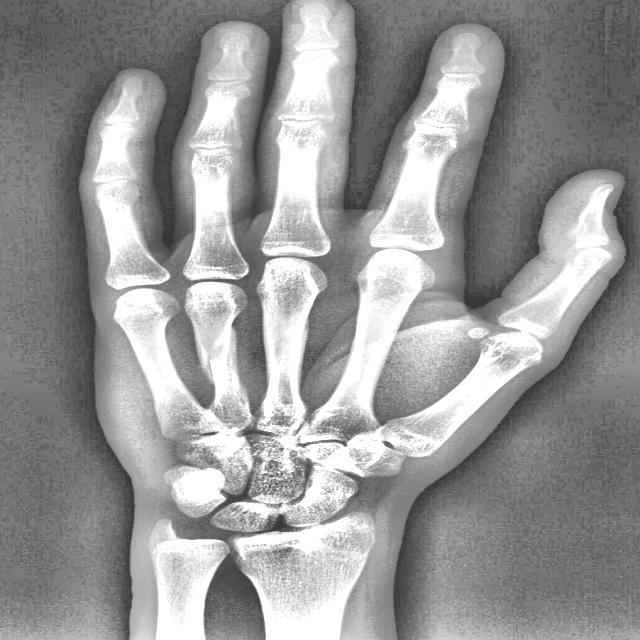fracture: (202, 326, 235, 384)
